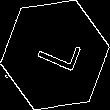L_W: (28, 31, 82, 79)
